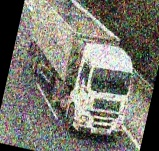truck: (8, 0, 147, 144)
